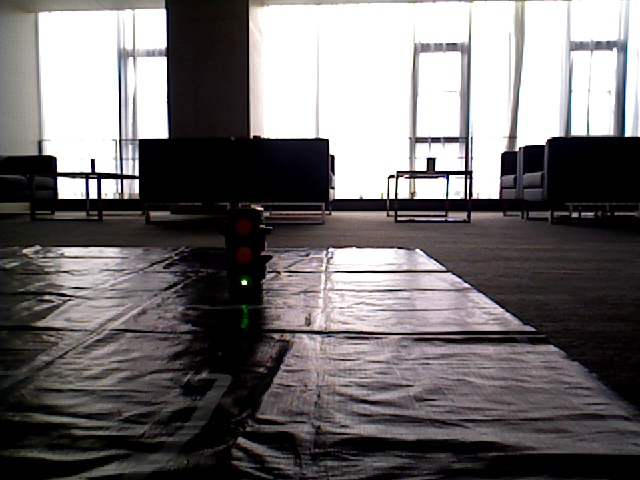green: (231, 208, 263, 298)
